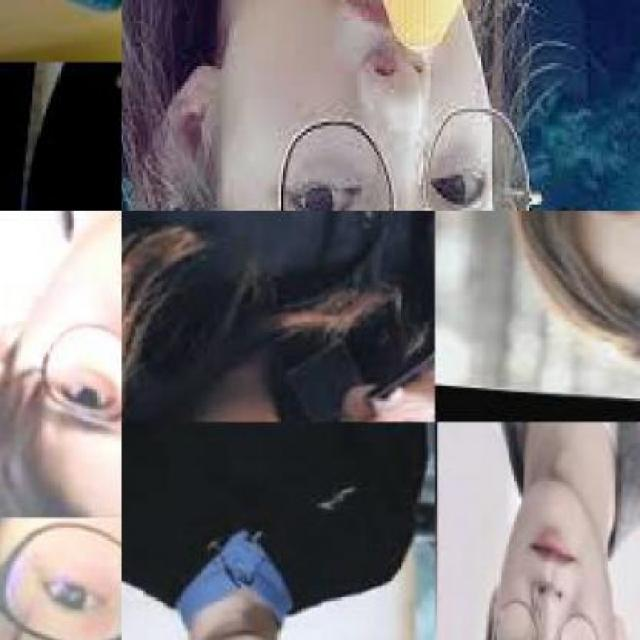mask: (197, 99, 556, 210), (3, 296, 121, 424), (0, 520, 120, 638), (484, 602, 618, 638)
